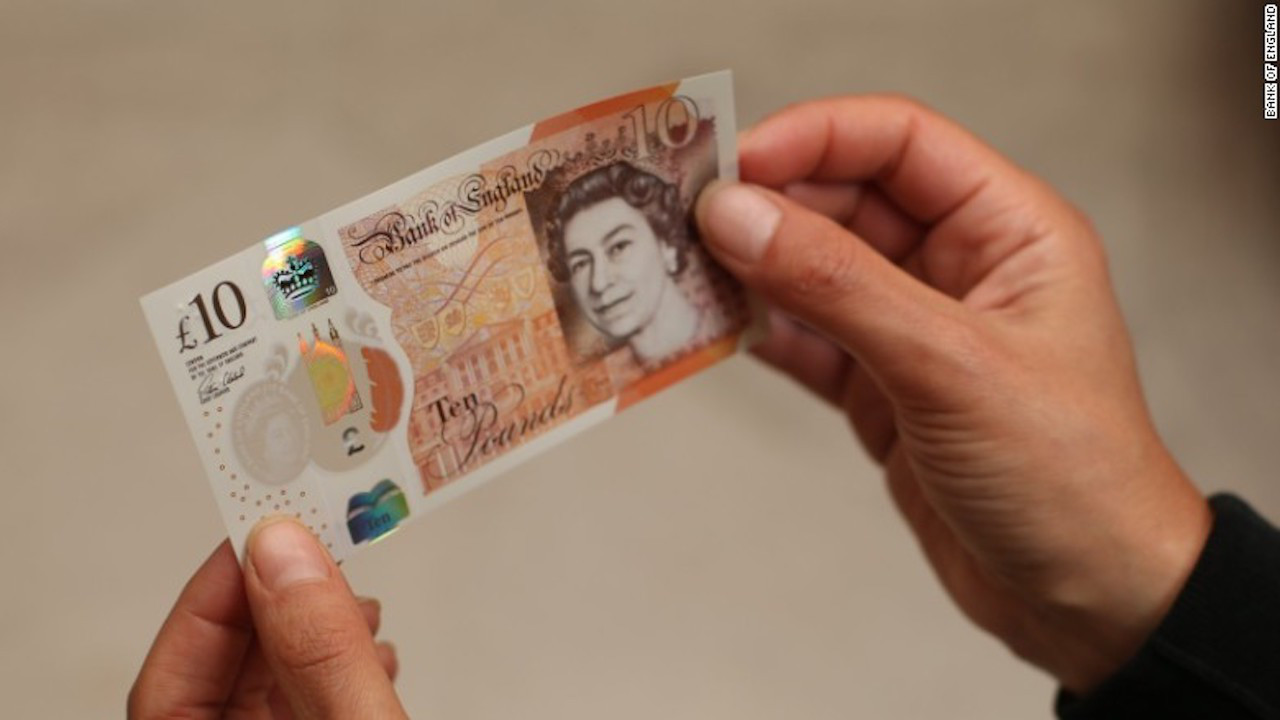billete: (140, 69, 779, 592)
